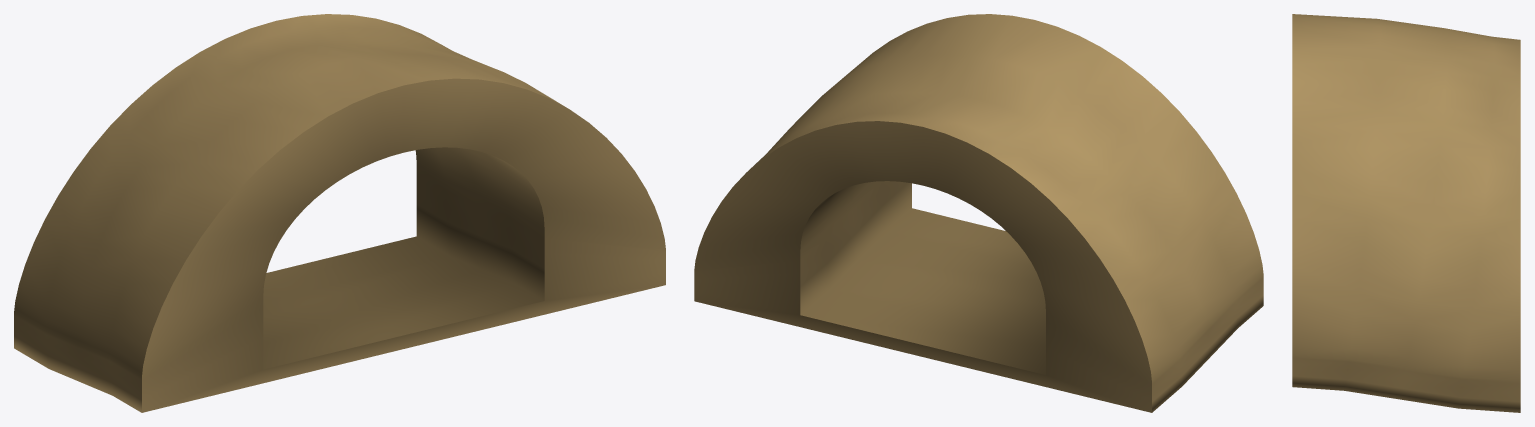
The model's file is grade_down_terrain_lod1.glb.
3 renders of one model, left to right at view 1: azimuth 30°, elevation 25°; view 2: azimuth 150°, elevation 25°; view 3: azimuth 270°, elevation 25°, orthographic. The views are drawn at different scales.
Visible parts, largest first — view 1: TerrainRoof.011; view 2: TerrainRoof.011; view 3: TerrainRoof.011.
Part boxes in pixels (x1=…): TerrainRoof.011: x1=14, y1=14, x2=665, y2=412; TerrainRoof.011: x1=694, y1=14, x2=1263, y2=412; TerrainRoof.011: x1=1292, y1=14, x2=1520, y2=412.
Size of the model in its own units: 28.4 by 15.15 by 12.
